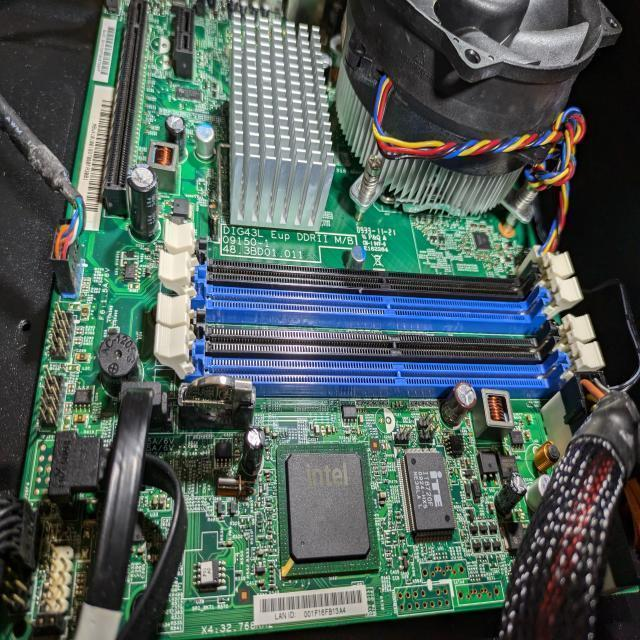CPU_Fan: (333, 0, 622, 226)
Mainboard: (0, 0, 639, 640)
